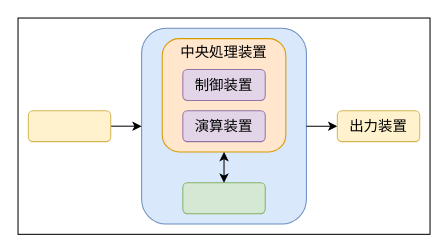
This 448x252 diagram has some shape labels left out. Each missing label, with the centre of its shape:
"入力装置" goes at [69,126].
"記憶装置" goes at [223,198].
